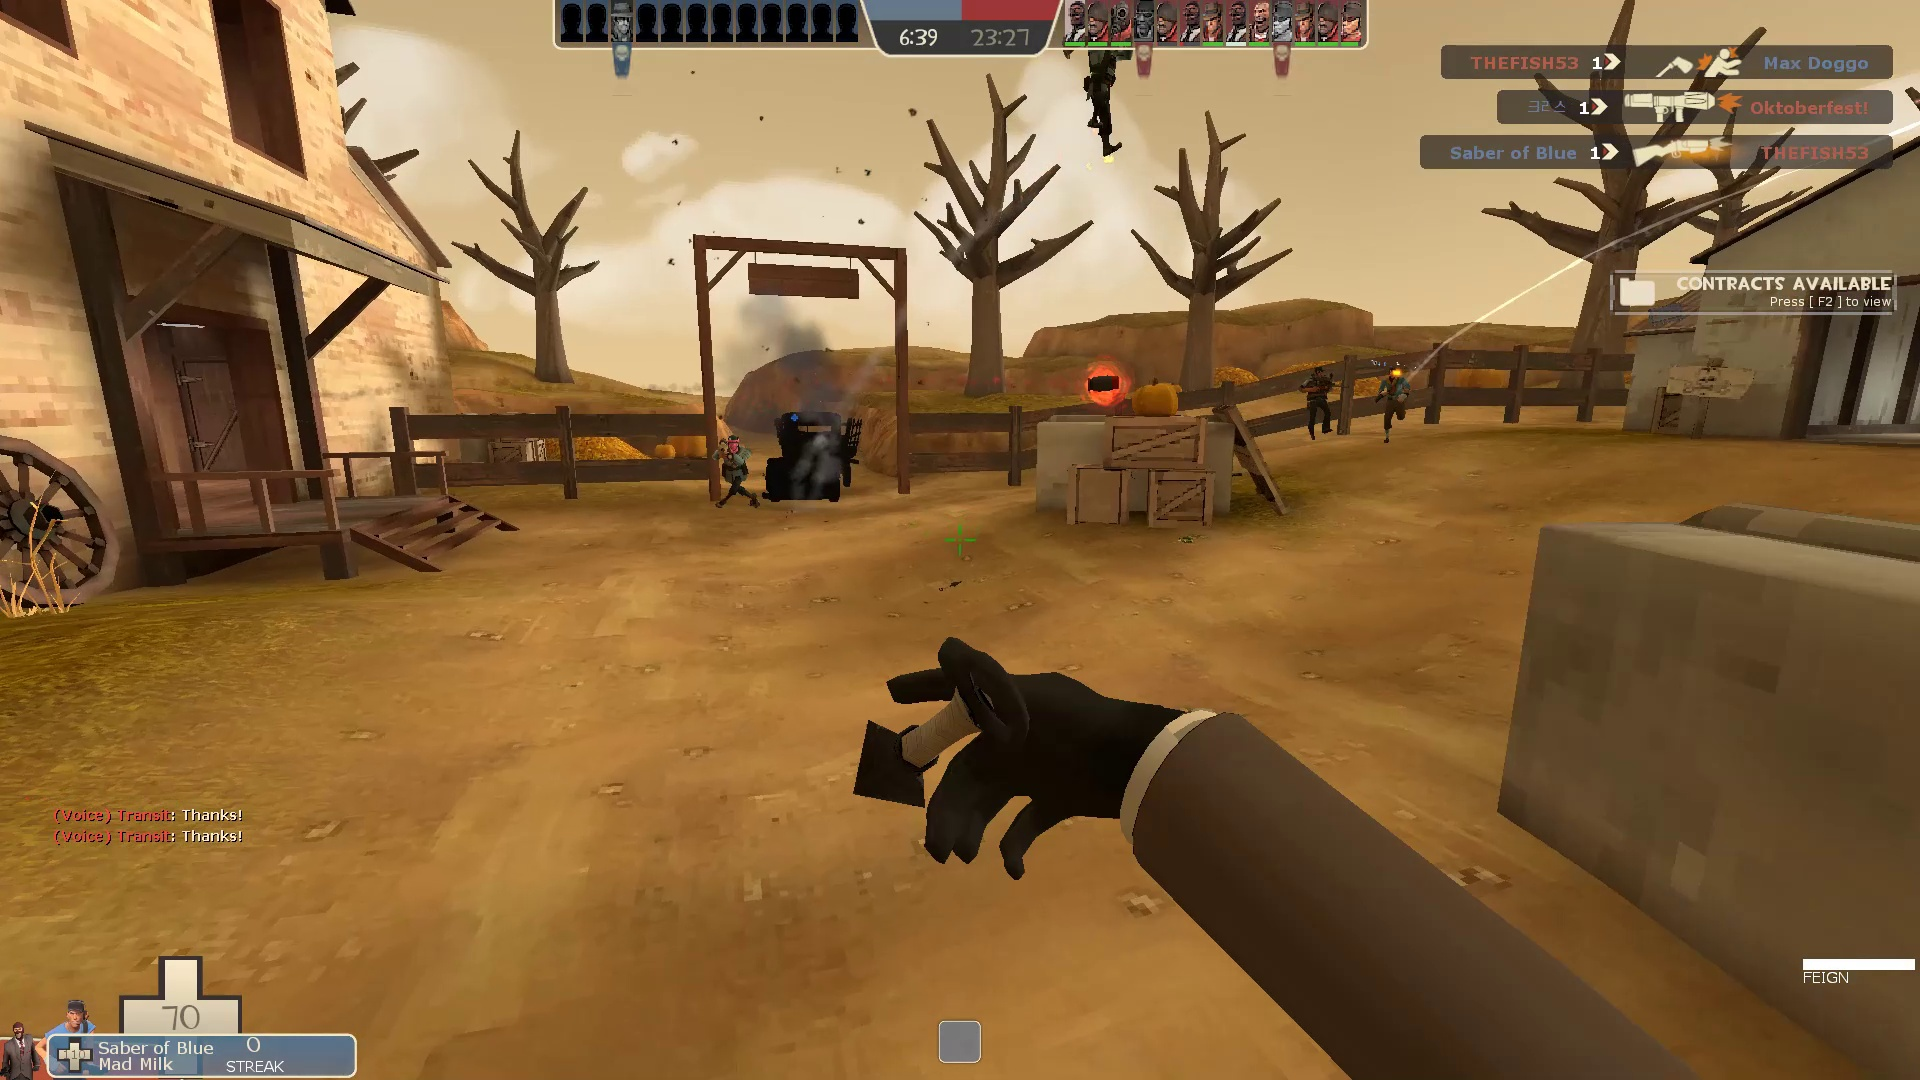blu_scout: (1370, 357, 1418, 447)
blu_sniper: (1298, 367, 1352, 440)
blu_soldier: (1055, 40, 1141, 165), (703, 433, 764, 517)
